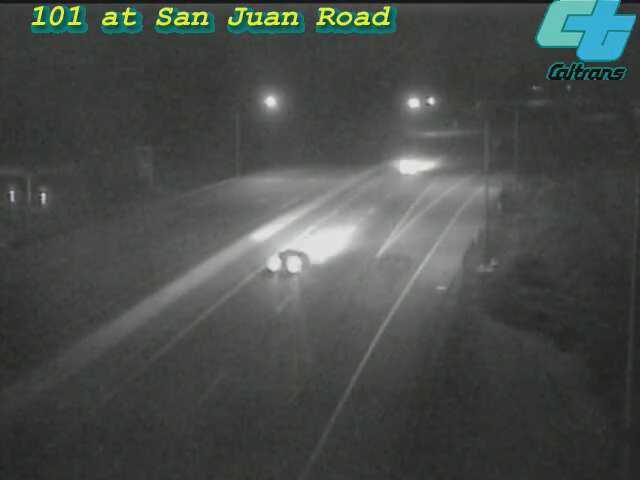vehicle: (370, 127, 450, 207), (253, 219, 333, 299)
